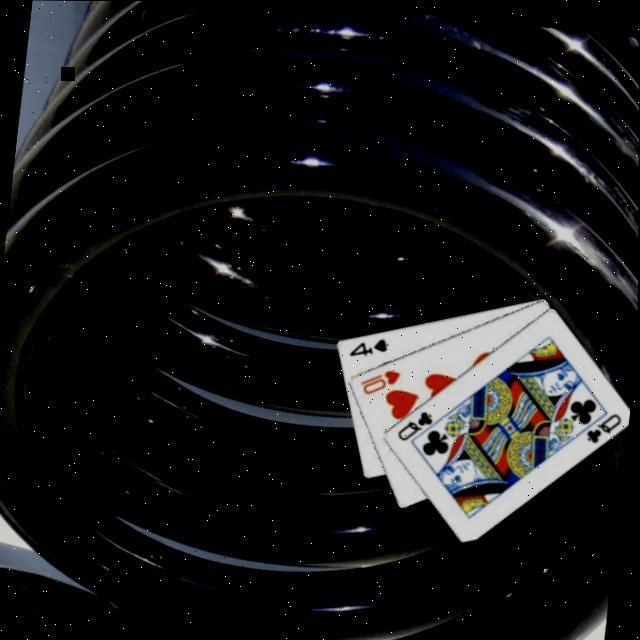10H: (358, 363, 406, 400)
4S: (348, 331, 392, 363)
QC: (394, 406, 438, 448), (583, 407, 626, 449)
